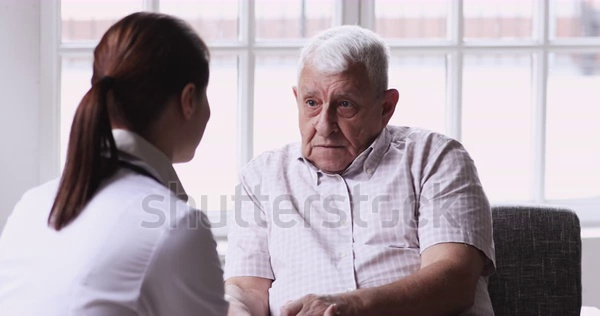No Mask: (293, 22, 400, 176)
